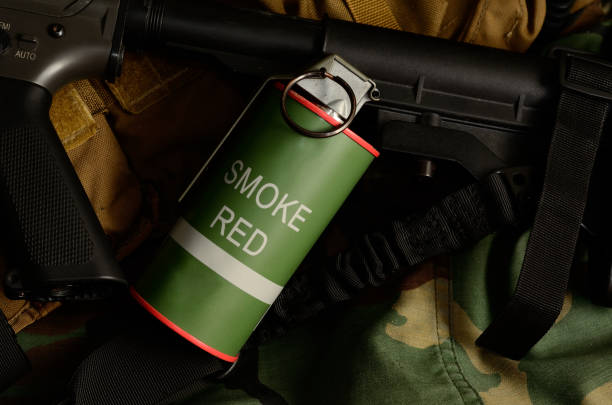e1: (130, 57, 378, 361)
